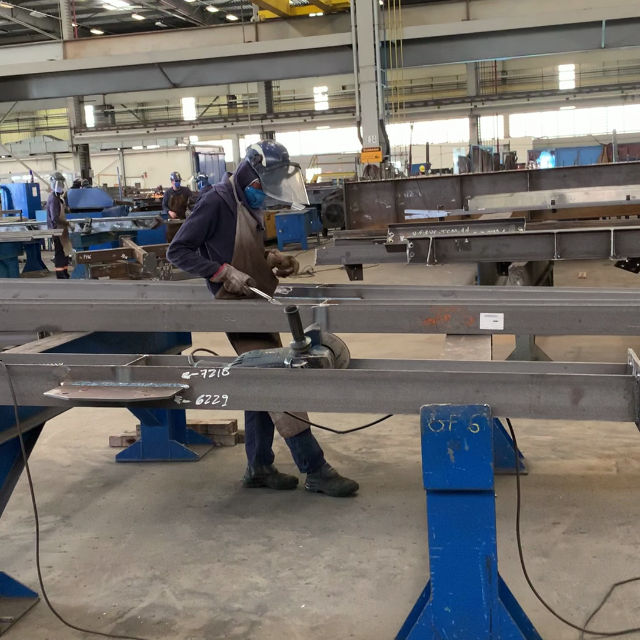face-shield: (264, 157, 310, 213)
glove: (207, 266, 255, 298), (263, 252, 299, 280)
helmet: (244, 137, 295, 175)
person: (165, 138, 309, 299)
safety-shoe: (303, 456, 362, 498), (239, 461, 299, 494)
